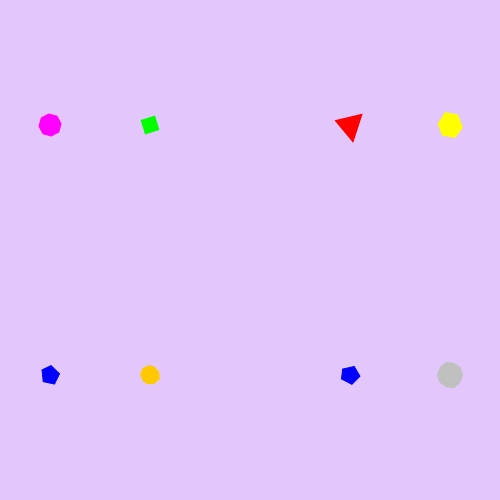decagon: (432, 359, 468, 392)
hexagon: (432, 110, 468, 140)
nonagon: (136, 361, 165, 389)
octagon: (34, 109, 66, 141)
pentagon: (36, 361, 64, 389), (336, 361, 364, 389)
quadrilateral: (135, 110, 165, 140)
triangle: (333, 107, 367, 143)
